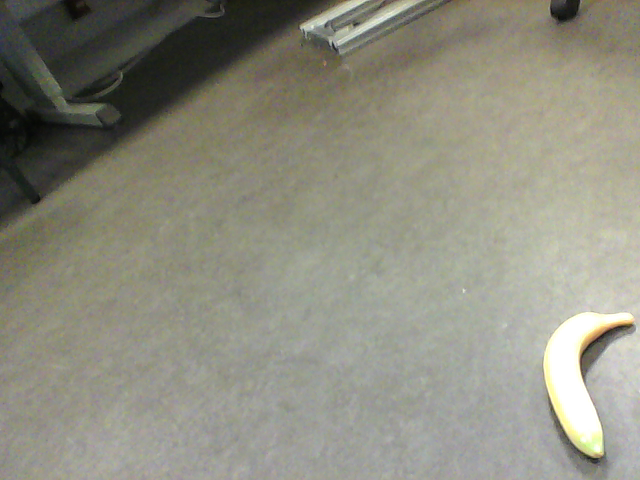banana: (543, 309, 633, 458)
